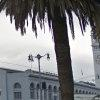Tree: (19, 0, 100, 45)
